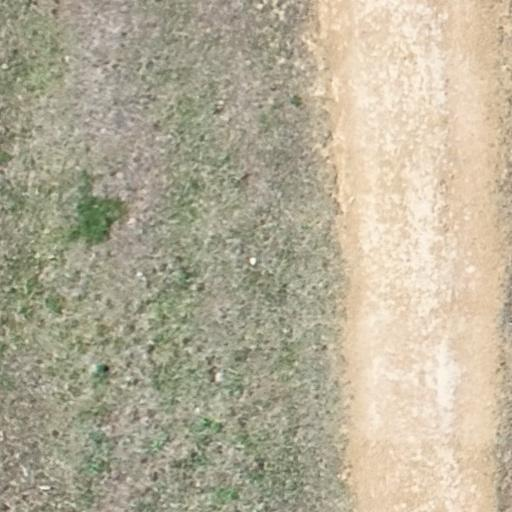stone: (249, 257, 265, 271)
